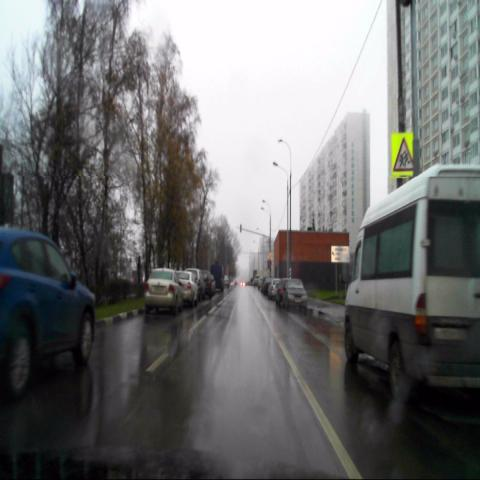1_23: (390, 132, 415, 176)
